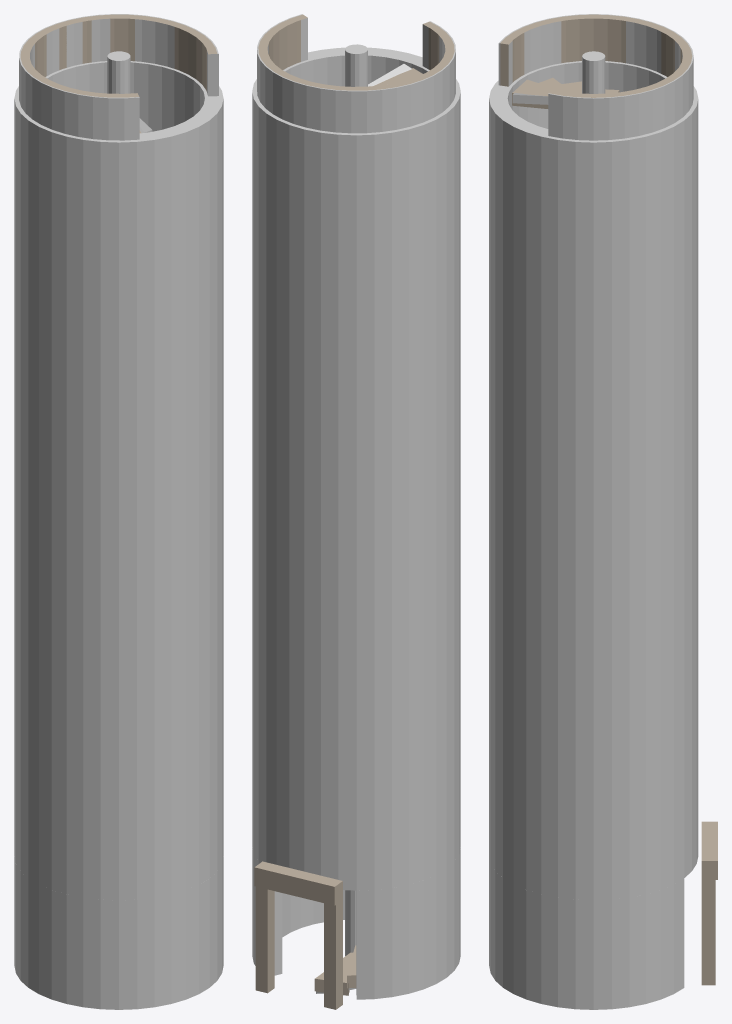
Rendered from charminar_stairs.glb.
The picture shows the model from 3 angles, left to right: view 1: azimuth 30°, elevation 25°; view 2: azimuth 150°, elevation 25°; view 3: azimuth 270°, elevation 25°; orthographic projection.
Parts seen in each view (by area): view 1: COL_ShaftRingUpper, COL_ShaftRing, COL_HatchRail, HatchRail, COL_StairColumn; view 2: COL_ShaftRingUpper, COL_ShaftRing, COL_HatchRail, DoorFrame, HatchRail, COL_StairColumn, StairSteps; view 3: COL_ShaftRingUpper, COL_ShaftRing, COL_HatchRail, HatchRail, DoorFrame, StairSteps, COL_StairColumn.
Part boxes in pixels (bbox=[...]): COL_ShaftRingUpper: bbox=[14, 61, 223, 900]; COL_ShaftRing: bbox=[14, 857, 223, 1009]; COL_HatchRail: bbox=[19, 14, 218, 140]; HatchRail: bbox=[20, 14, 217, 97]; COL_StairColumn: bbox=[107, 51, 130, 93]; COL_ShaftRingUpper: bbox=[252, 47, 460, 890]; COL_ShaftRing: bbox=[252, 848, 460, 999]; COL_HatchRail: bbox=[257, 14, 455, 133]; DoorFrame: bbox=[254, 861, 342, 1009]; HatchRail: bbox=[258, 14, 454, 90]; COL_StairColumn: bbox=[345, 44, 367, 955]; StairSteps: bbox=[314, 68, 422, 995]; COL_ShaftRingUpper: bbox=[489, 61, 698, 900]; COL_ShaftRing: bbox=[489, 857, 684, 1009]; COL_HatchRail: bbox=[498, 14, 693, 140]; HatchRail: bbox=[500, 14, 692, 97]; DoorFrame: bbox=[701, 821, 717, 985]; StairSteps: bbox=[512, 77, 619, 108]; COL_StairColumn: bbox=[582, 51, 605, 93].
Size of the model in its own units: 4.5 by 21.78 by 4.92.
